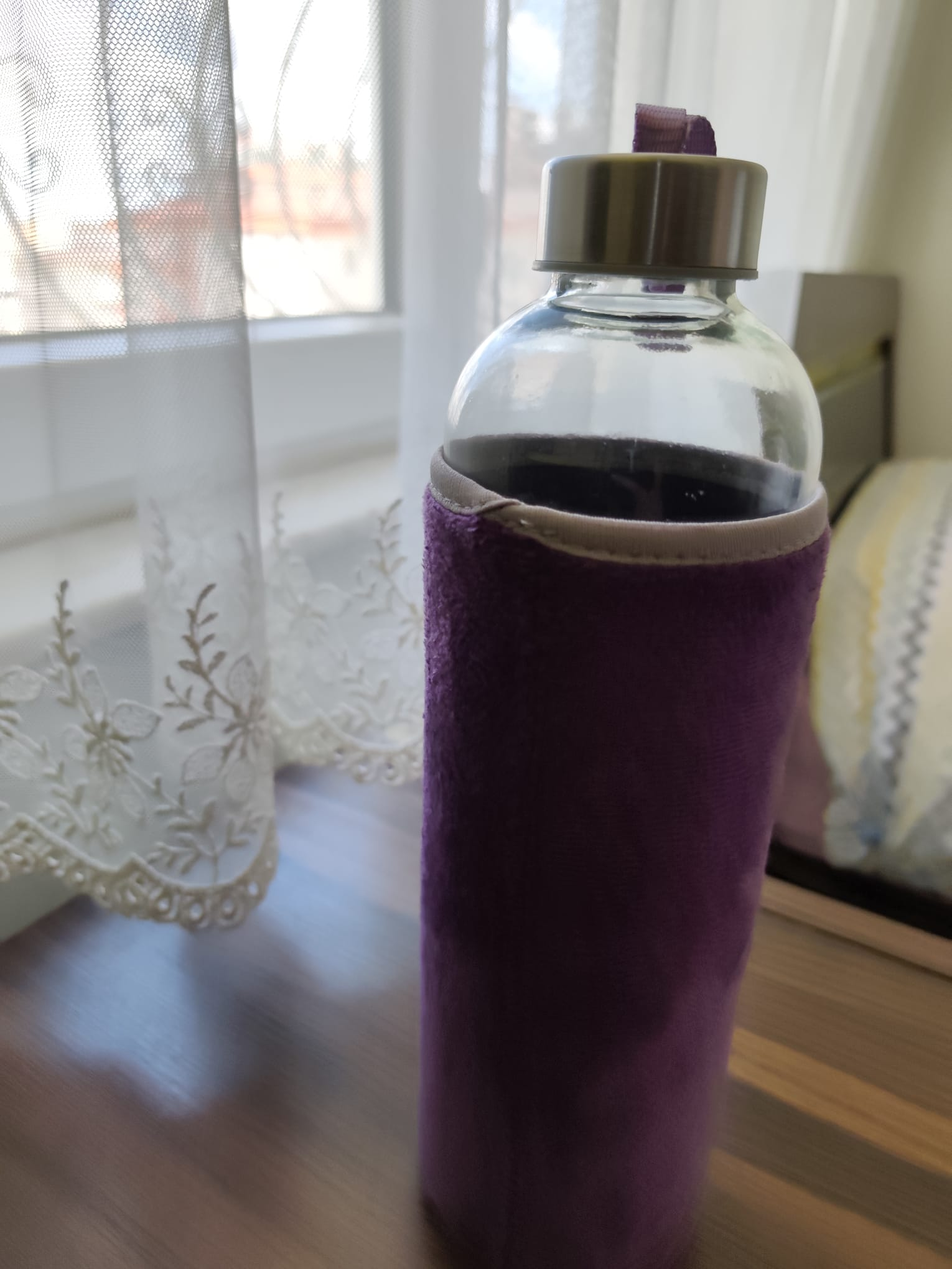su_sisesi: (408, 88, 847, 1269)
